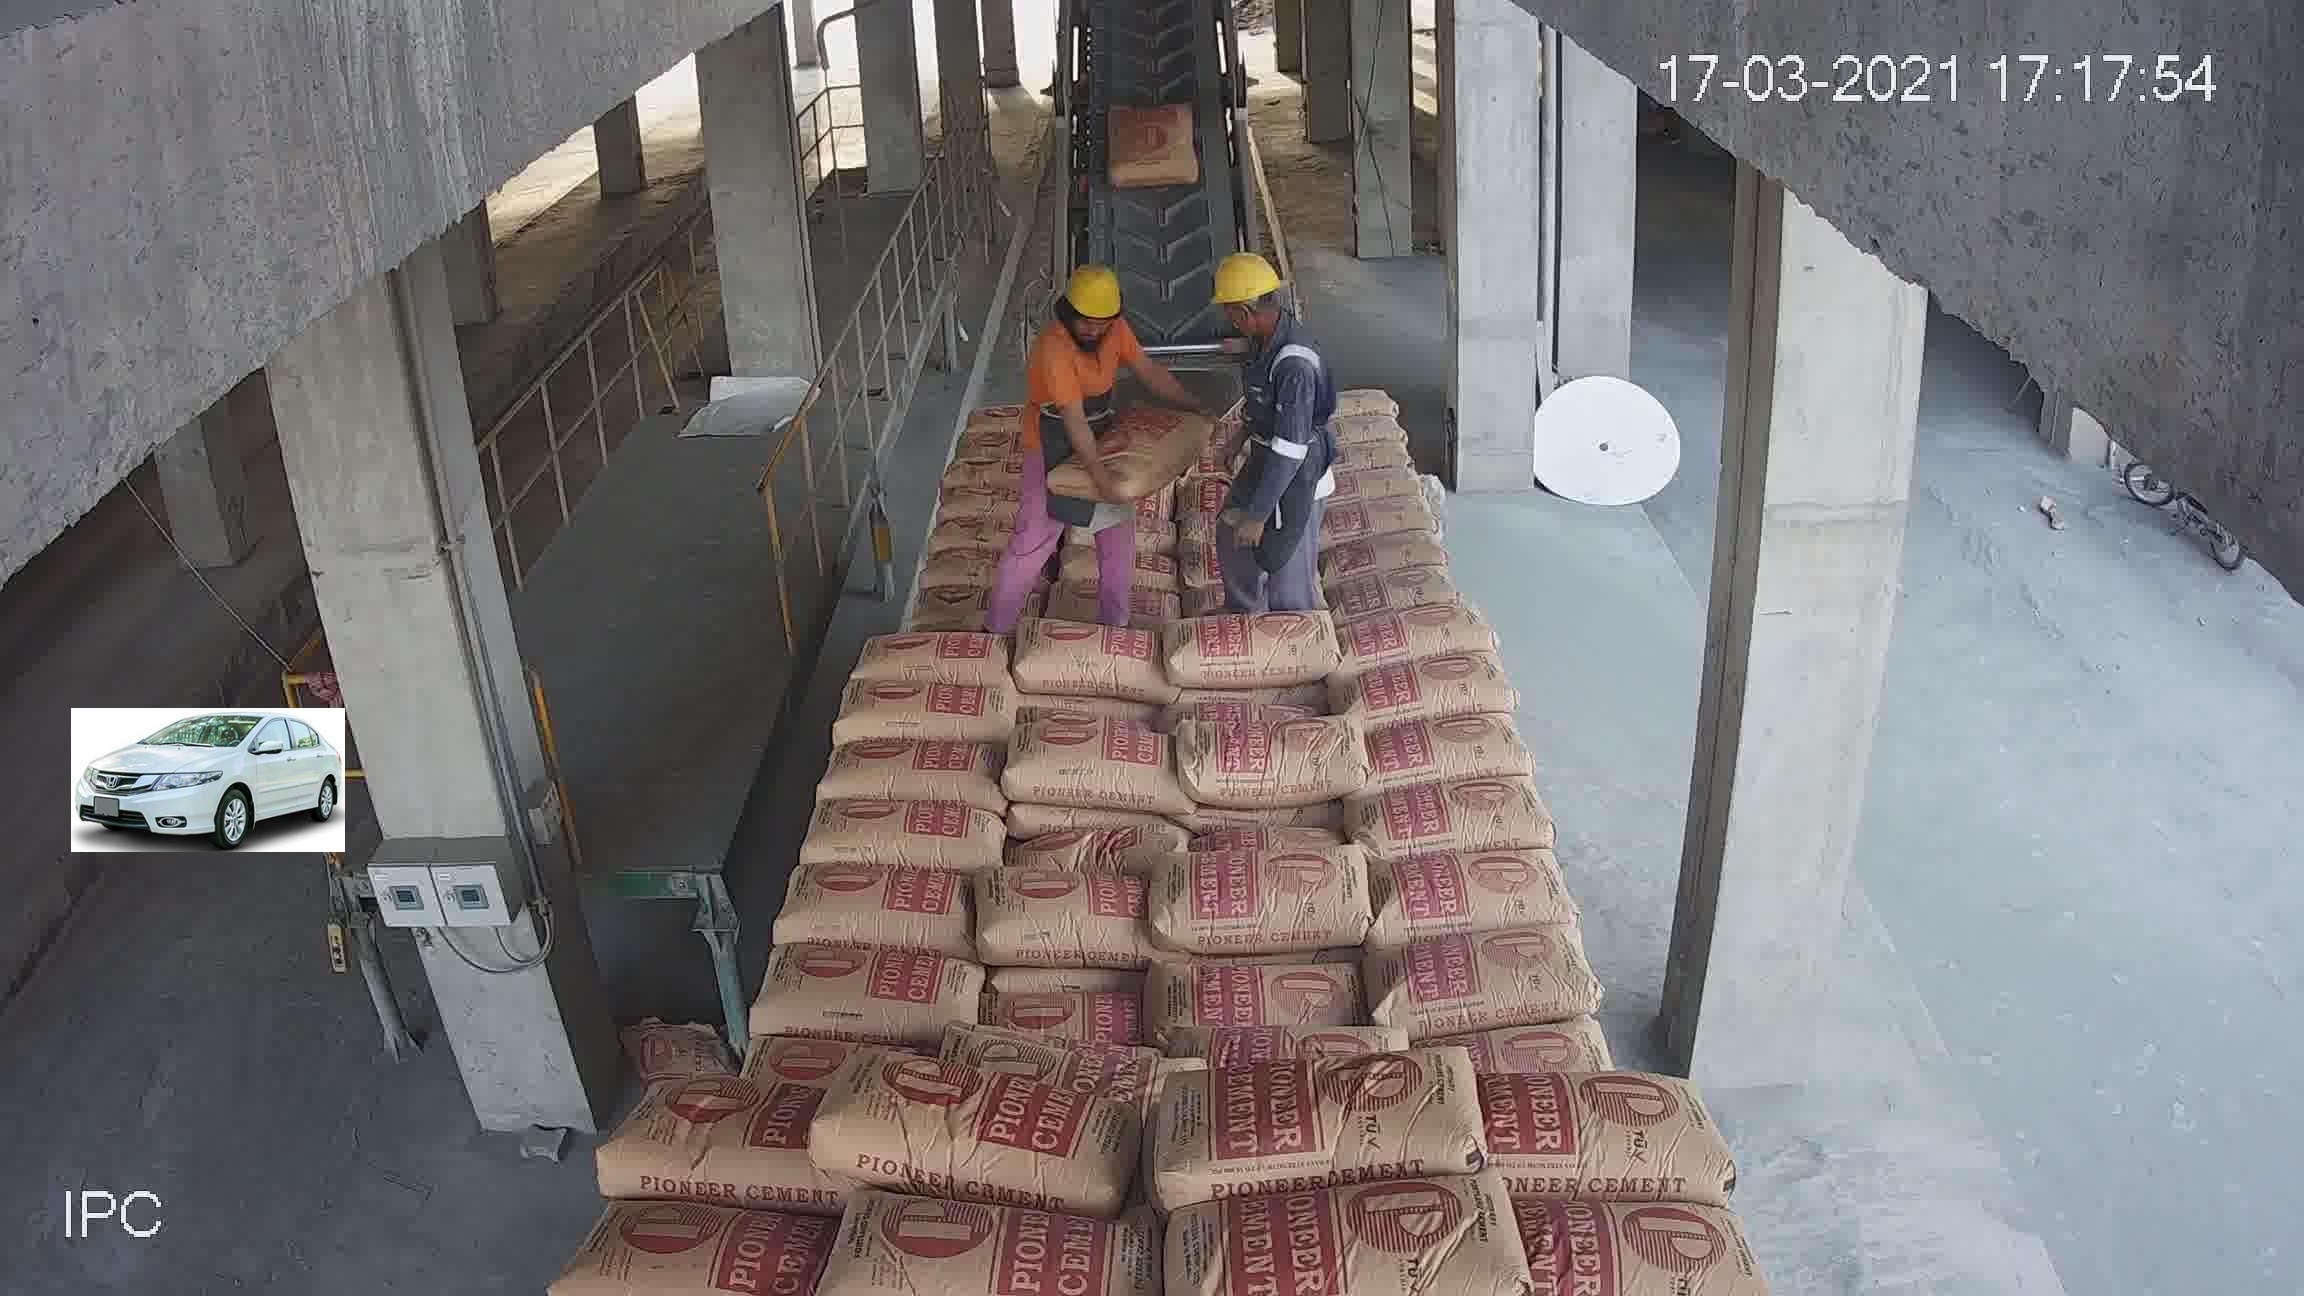bag: (1108, 97, 1195, 190)
bag_h: (824, 1051, 1135, 1220), (1154, 1055, 1492, 1203), (809, 1184, 1171, 1290), (1163, 1188, 1510, 1296), (579, 1073, 817, 1211), (1472, 1078, 1717, 1199), (1499, 1185, 1755, 1296), (543, 1196, 839, 1290), (747, 943, 997, 1046), (1374, 923, 1603, 1033), (1343, 769, 1556, 864), (1158, 862, 1377, 953), (779, 855, 972, 953), (1177, 709, 1364, 809), (968, 872, 1161, 967), (1150, 959, 1367, 1043), (1374, 850, 1570, 940), (997, 715, 1188, 805), (798, 794, 1013, 870), (1351, 711, 1533, 793), (929, 1025, 1157, 1089), (1173, 604, 1329, 696), (1329, 652, 1522, 726), (1010, 820, 1195, 894), (820, 734, 1008, 805), (1324, 593, 1505, 666), (1000, 631, 1169, 709), (1038, 408, 1203, 483), (989, 973, 1150, 1046), (1431, 1024, 1620, 1086), (843, 635, 1003, 704), (836, 684, 1006, 748), (1312, 567, 1470, 620), (1320, 521, 1446, 578), (1029, 581, 1179, 628), (1324, 495, 1435, 548), (900, 578, 991, 631), (1317, 440, 1421, 476), (926, 508, 1006, 552), (926, 481, 1017, 519), (908, 549, 995, 587), (1315, 411, 1407, 446), (1321, 381, 1402, 418), (1315, 472, 1424, 495)
belt: (1048, 24, 1272, 404)
